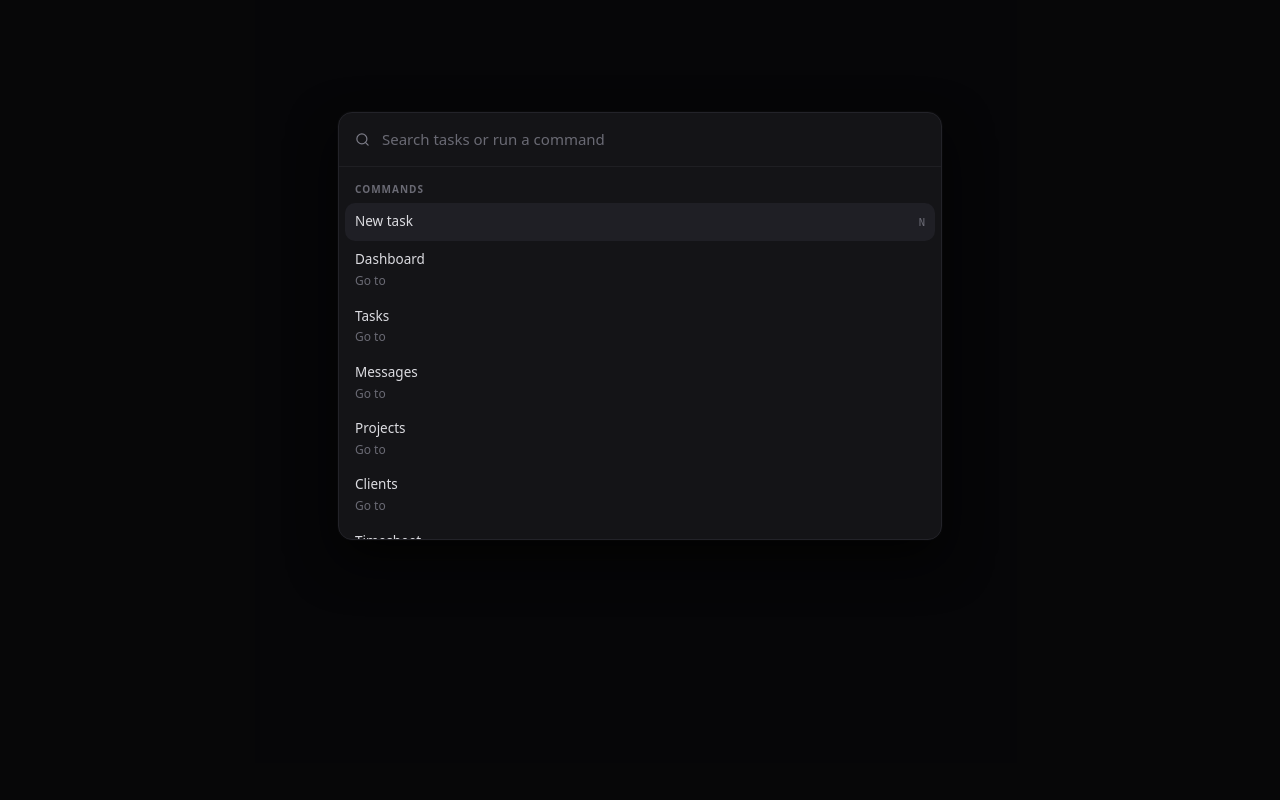
Test: the command palette › filters commands as you type
Type "timesh" into the field.
click(654, 140); type("timesh")  # box [382,128,925,151]
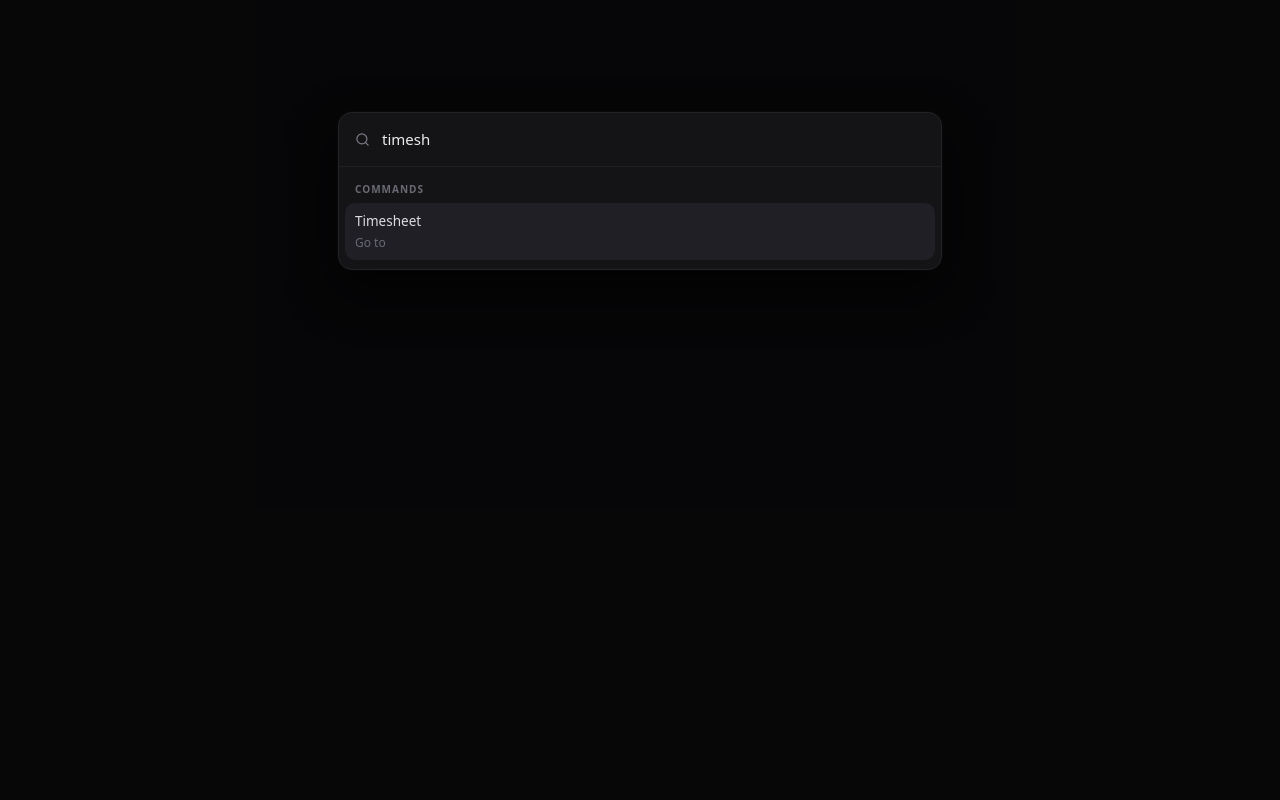
Expected: the button "Timesheet Go to" is shown, [345,204,935,260]
Result: the button "Dashboard" is gone
